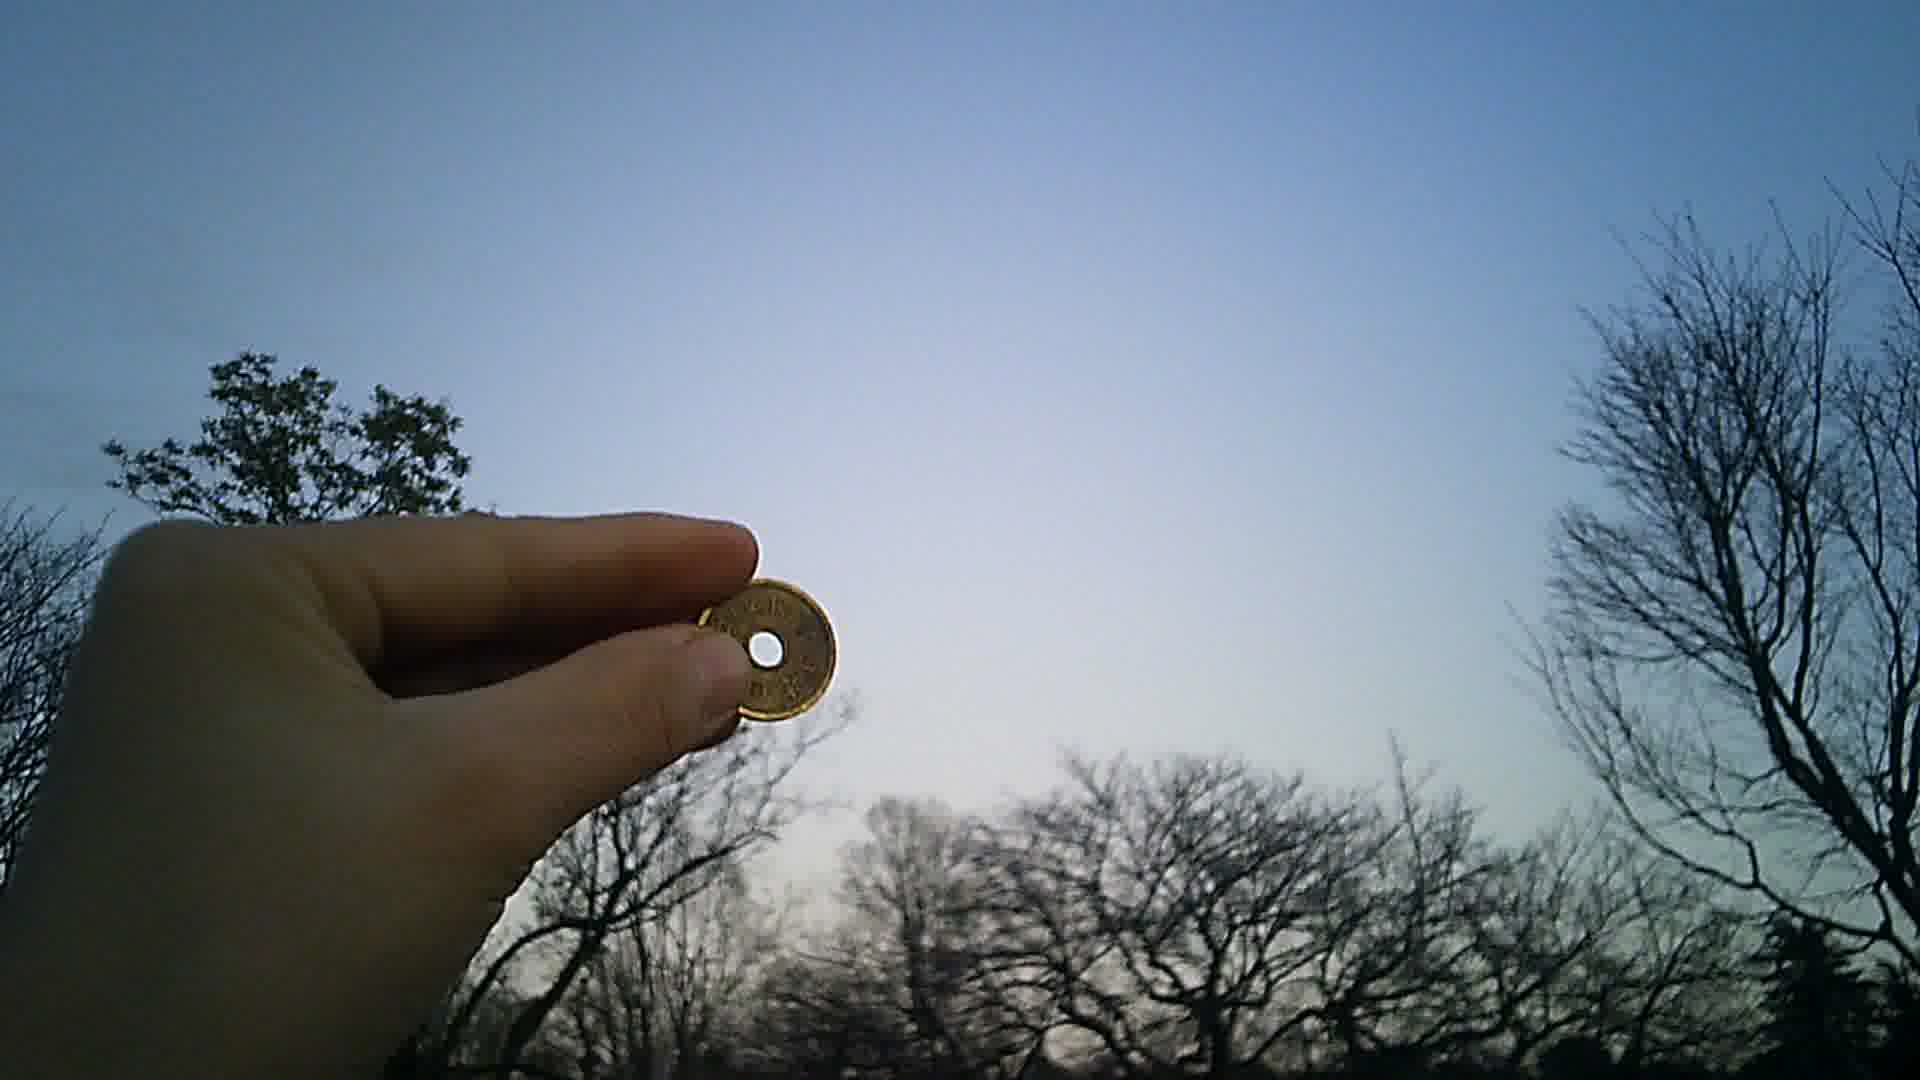5 Yen: (678, 571, 840, 731)
